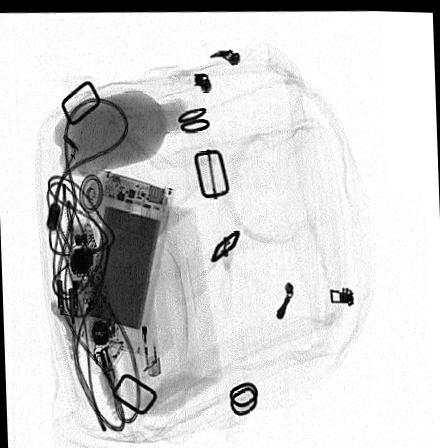Lighter: (135, 278, 163, 377)
Powerbank: (67, 167, 173, 354)
Sprayer: (63, 163, 168, 238)
